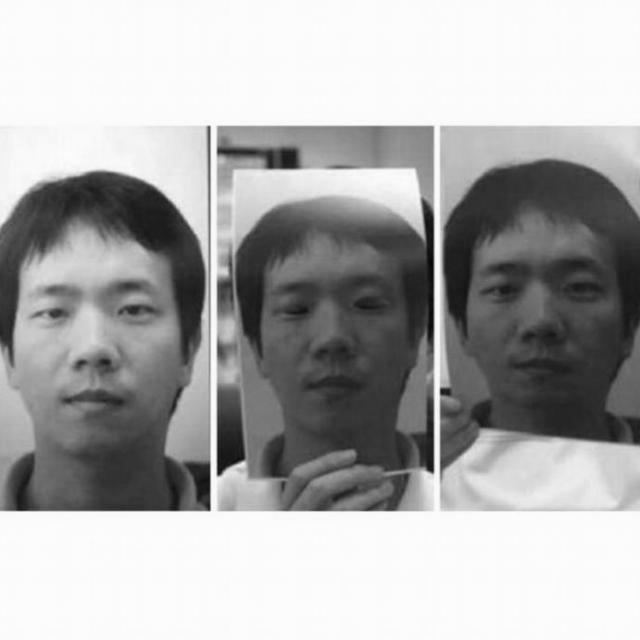fake: (226, 162, 428, 496), (440, 126, 640, 446)
real: (16, 250, 166, 446)
